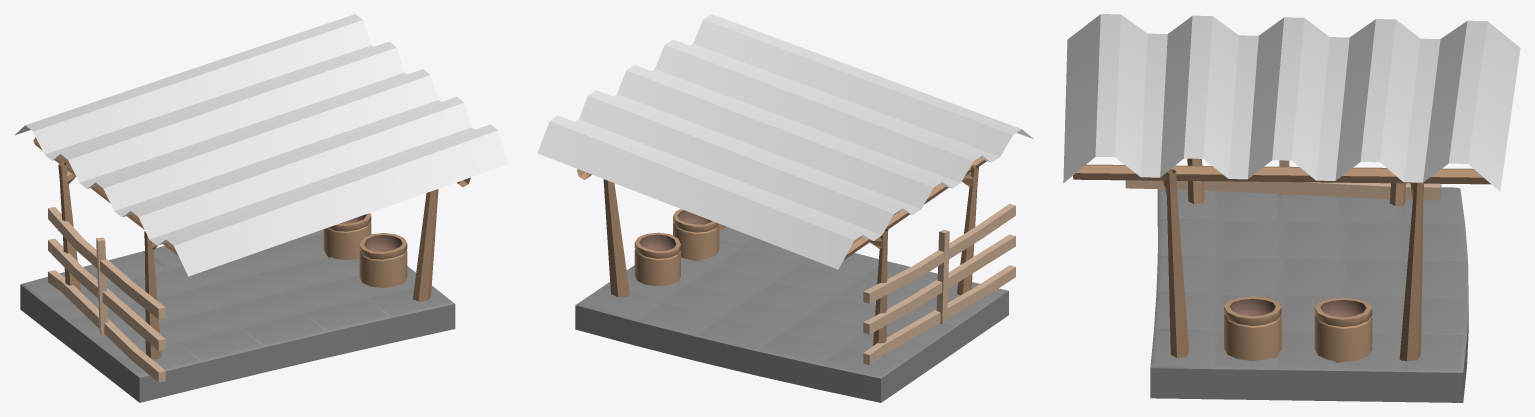
File: Cow_house 1.fbx
The picture shows the model from 3 angles, left to right: view 1: azimuth 30°, elevation 25°; view 2: azimuth 150°, elevation 25°; view 3: azimuth 270°, elevation 25°; orthographic projection. The views are drawn at different scales.
Parts seen in each view (by area): view 1: polySurface27; view 2: polySurface27; view 3: polySurface27.
Boxes of the visible parts, x1,y1,x2,y2 form: polySurface27: (15,14,508,402); polySurface27: (537,14,1033,402); polySurface27: (1063,14,1520,402).
Bounding box in the file's own units: 701 × 409 × 669.
Materials: 1 (1 with a texture image).
